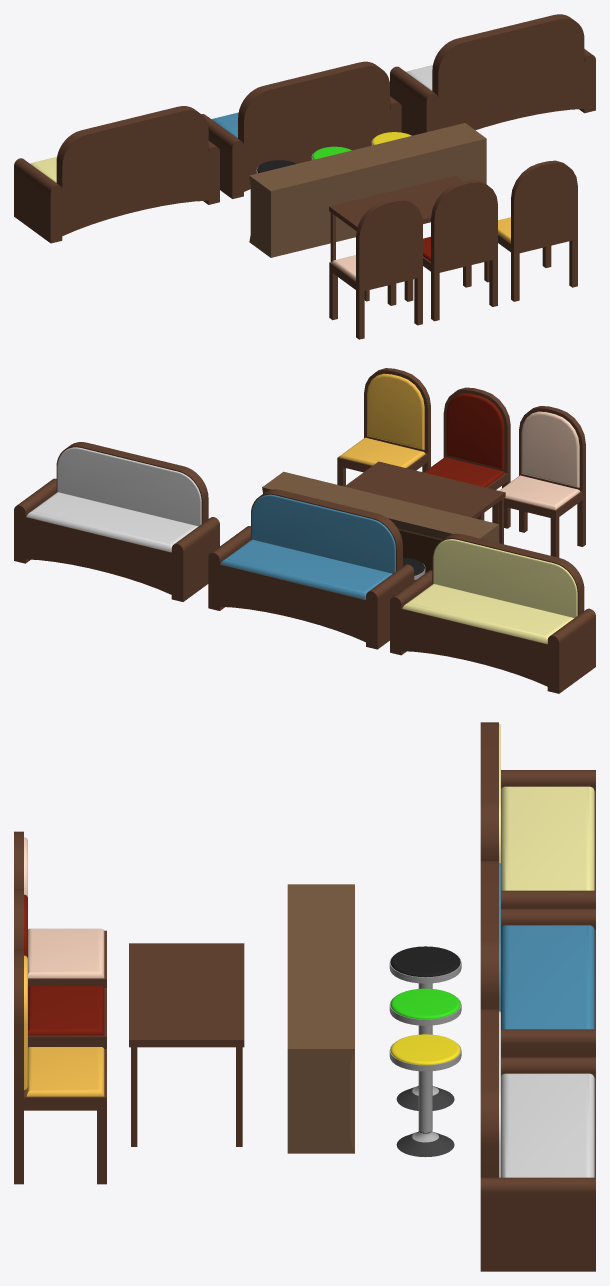
Rendered from Furniature.fbx.
The picture shows the model from 3 angles, top to bottom: view 1: azimuth 30°, elevation 25°; view 2: azimuth 150°, elevation 25°; view 3: azimuth 270°, elevation 25°; orthographic projection. The views are drawn at different scales.
Visible parts, largest first — view 1: ExtraCouch2, extraCouch, barCounter, blueCouch, extraChair, ExtraChair2, redChair, table; view 2: ExtraCouch2, extraCouch, blueCouch, extraChair, ExtraChair2, redChair, barCounter, table; view 3: extraCouch, barCounter, blueCouch, ExtraCouch2, table, ExtraChair2, redChair, extraChair, extraStool2, GreenStool, extraStool.
Part boxes in pixels (x1=…): ExtraCouch2: x1=14, y1=106, x2=219, y2=243; extraCouch: x1=390, y1=14, x2=595, y2=135; barCounter: x1=249, y1=123, x2=486, y2=257; blueCouch: x1=201, y1=61, x2=401, y2=198; extraChair: x1=329, y1=198, x2=422, y2=339; ExtraChair2: x1=484, y1=160, x2=577, y2=301; redChair: x1=404, y1=180, x2=497, y2=321; table: x1=329, y1=175, x2=463, y2=301; ExtraCouch2: x1=390, y1=533, x2=595, y2=693; extraCouch: x1=14, y1=442, x2=219, y2=601; blueCouch: x1=208, y1=489, x2=414, y2=649; extraChair: x1=492, y1=406, x2=585, y2=557; ExtraChair2: x1=337, y1=368, x2=430, y2=486; redChair: x1=424, y1=387, x2=510, y2=528; barCounter: x1=262, y1=471, x2=499, y2=580; table: x1=344, y1=461, x2=505, y2=544; extraCouch: x1=480, y1=1009, x2=595, y2=1271; barCounter: x1=287, y1=884, x2=354, y2=1153; blueCouch: x1=480, y1=861, x2=595, y2=1057; ExtraCouch2: x1=480, y1=722, x2=595, y2=908; table: x1=129, y1=943, x2=244, y2=1146; ExtraChair2: x1=14, y1=949, x2=106, y2=1184; redChair: x1=14, y1=889, x2=106, y2=1048; extraChair: x1=14, y1=831, x2=106, y2=987; extraStool2: x1=389, y1=1034, x2=461, y2=1157; GreenStool: x1=389, y1=988, x2=461, y2=1110; extraStool: x1=389, y1=946, x2=461, y2=988.
Size of the model in its own units: 1709 by 388 by 1010.
